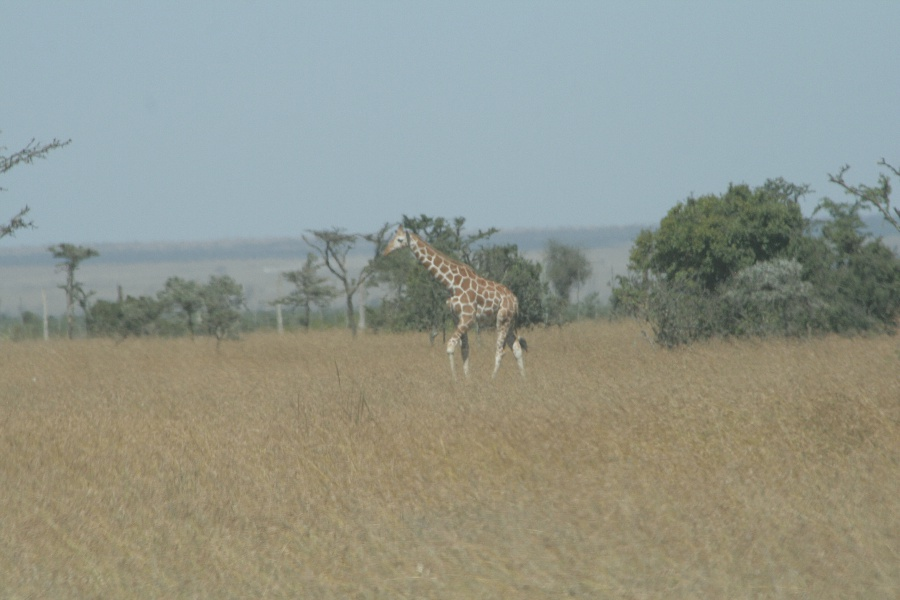giraffe: (375, 218, 534, 382)
